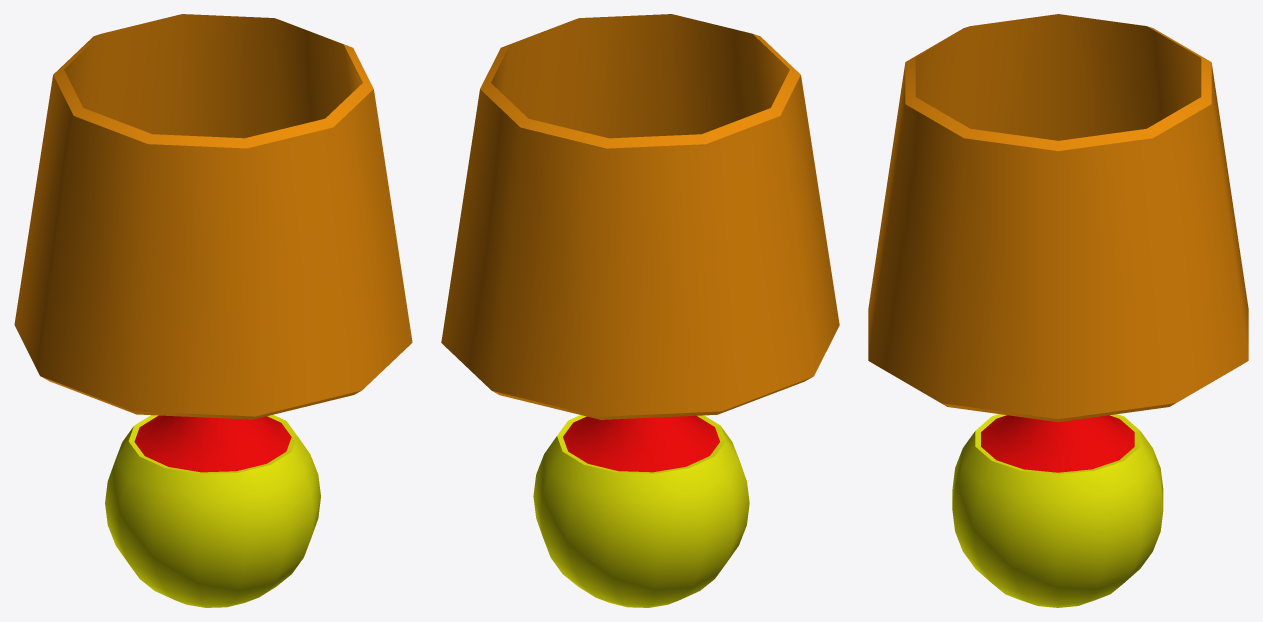
Rendered from LR_DeskLamp.fbx.
The picture shows the model from 3 angles, left to right: view 1: azimuth 30°, elevation 25°; view 2: azimuth 150°, elevation 25°; view 3: azimuth 270°, elevation 25°; orthographic projection.
Visible parts, largest first — view 1: LR_DeskLamp; view 2: LR_DeskLamp; view 3: LR_DeskLamp.
Boxes of the visible parts, x1,y1,x2,y2 form: LR_DeskLamp: (14, 14, 412, 607); LR_DeskLamp: (441, 14, 839, 607); LR_DeskLamp: (868, 14, 1248, 607).
Size of the model in its own units: 53.02 by 75.86 by 50.43.
